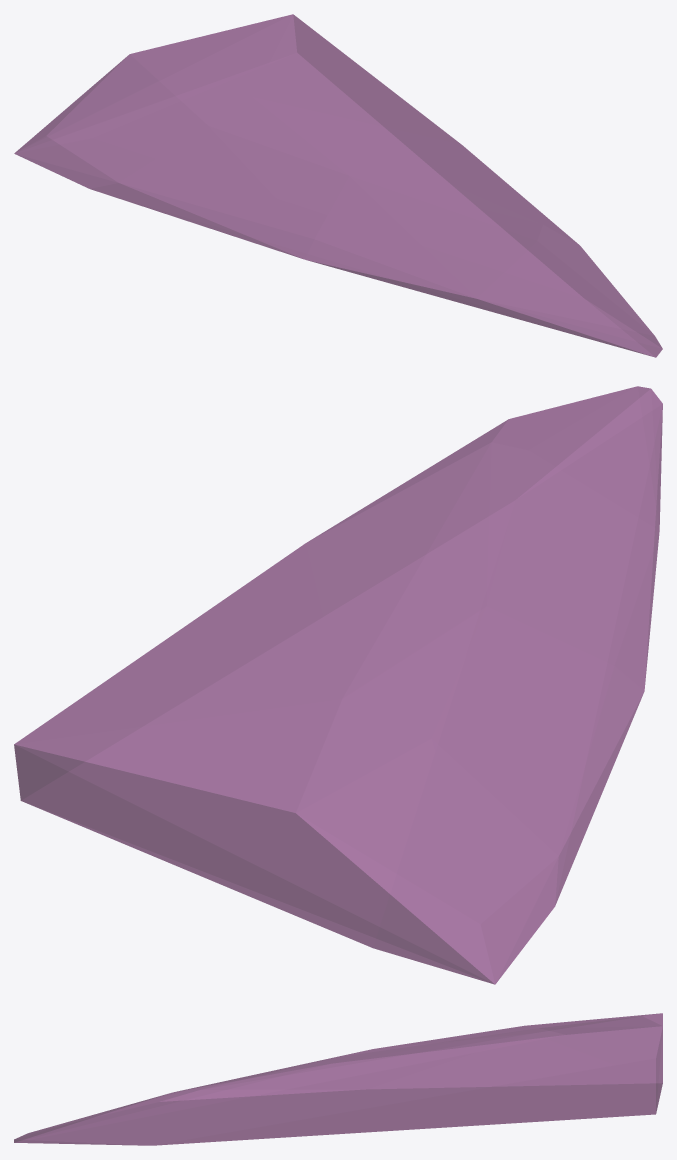
The picture shows the model from 3 angles, top to bottom: view 1: azimuth 30°, elevation 25°; view 2: azimuth 150°, elevation 25°; view 3: azimuth 270°, elevation 25°; orthographic projection. The views are drawn at different scales.
Parts seen in each view (by area): view 1: Shape_IndexedFaceSet.024_Shape_IndexedFaceSet.9035; view 2: Shape_IndexedFaceSet.024_Shape_IndexedFaceSet.9035; view 3: Shape_IndexedFaceSet.024_Shape_IndexedFaceSet.9035.
Part boxes in pixels (left/top/right/bottom): Shape_IndexedFaceSet.024_Shape_IndexedFaceSet.9035: left=14, top=14, right=662, bottom=357; Shape_IndexedFaceSet.024_Shape_IndexedFaceSet.9035: left=14, top=386, right=662, bottom=984; Shape_IndexedFaceSet.024_Shape_IndexedFaceSet.9035: left=14, top=1013, right=662, bottom=1145.
Size of the model in its own units: 0.0954 by 0.0233 by 0.2187.
